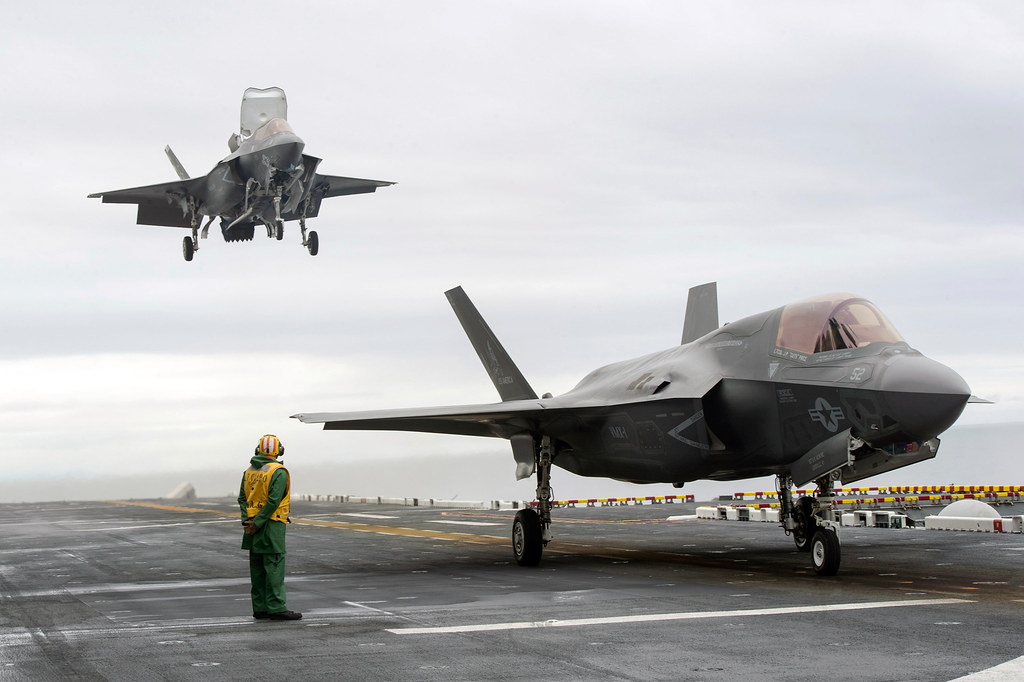F35: (283, 277, 997, 580), (83, 83, 400, 264)
